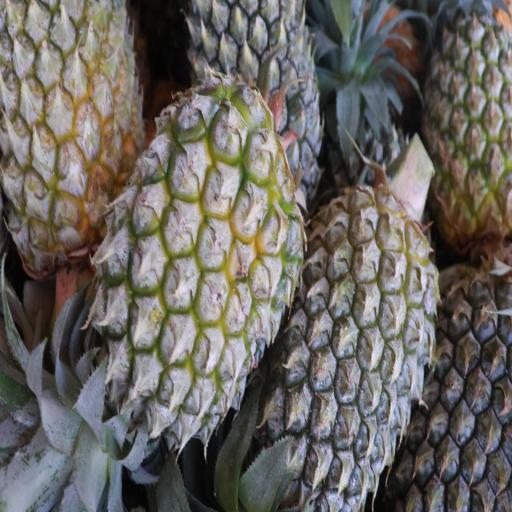------------------------------: (99, 94, 283, 432), (0, 0, 151, 274), (428, 0, 510, 228)
